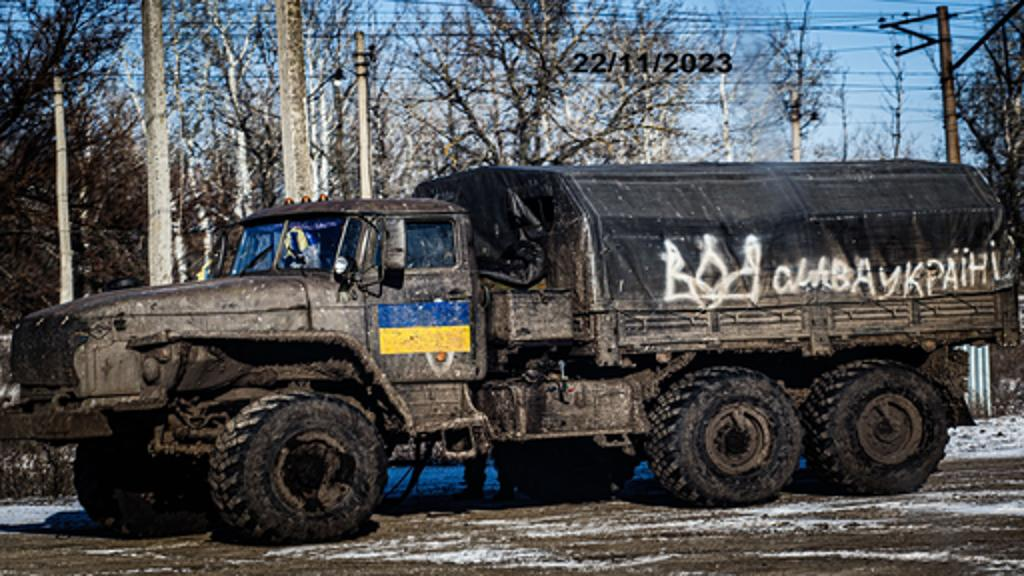TRUCK: (0, 136, 1014, 550)
